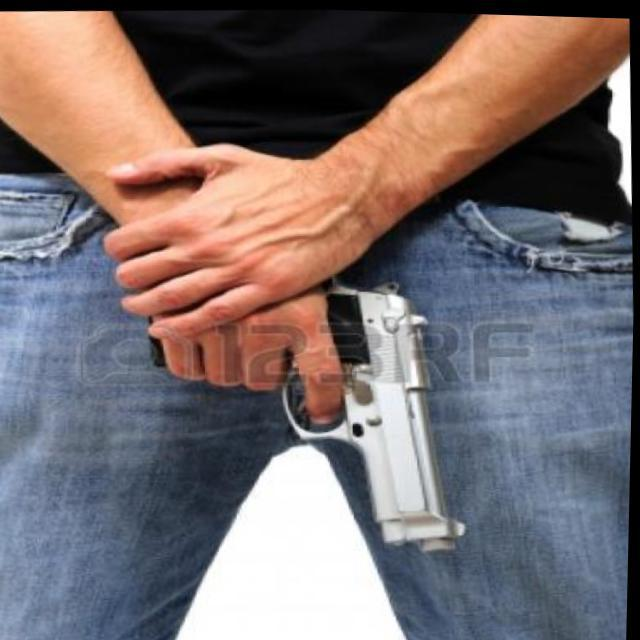weapon: (112, 225, 479, 580)
